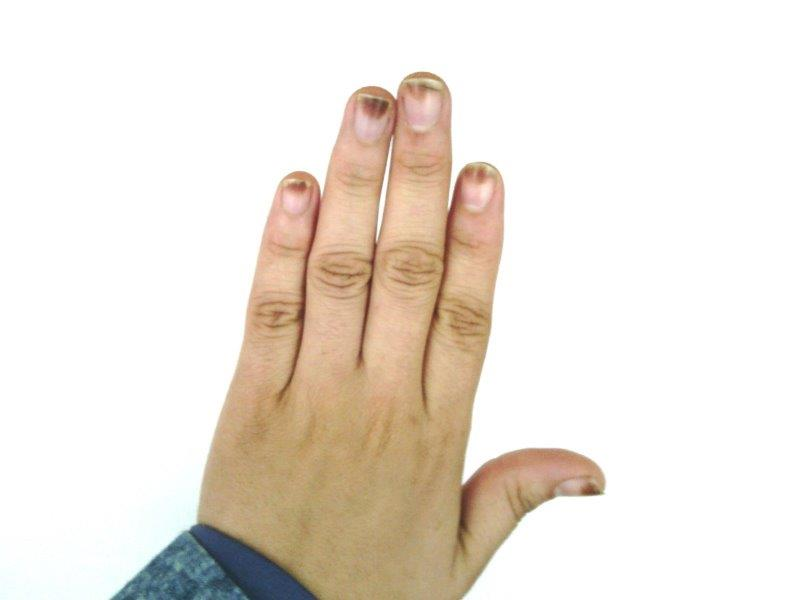hand: (200, 73, 605, 586)
